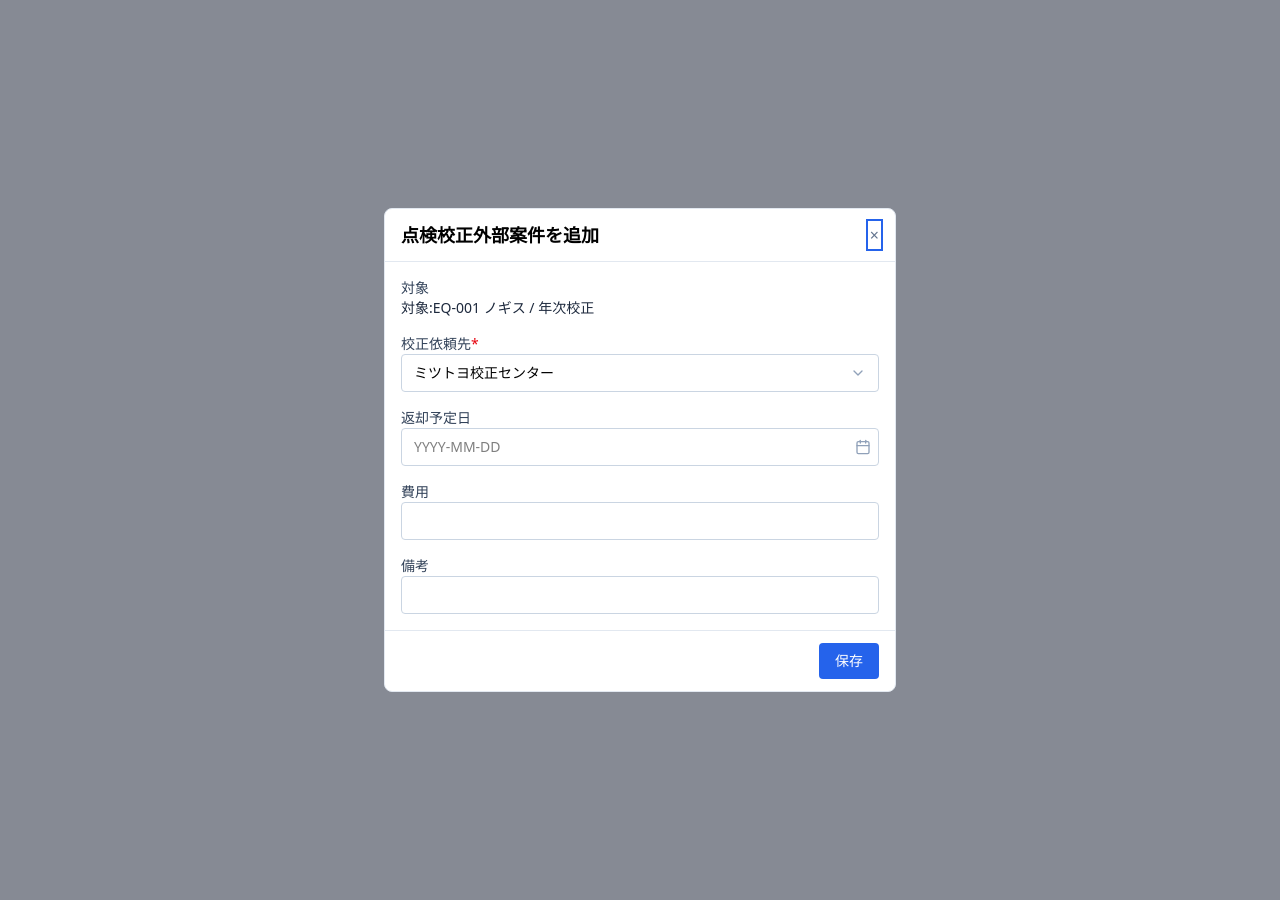
Scenario: ServiceOrderModal › 依頼先の選択肢がisCalibrator=trueのVendorのみ
What coordinates should you click on to do the following:
click the dropdown named "校正依頼先"
I would click on:
 (484, 372)
Its box is [401, 354, 879, 392].
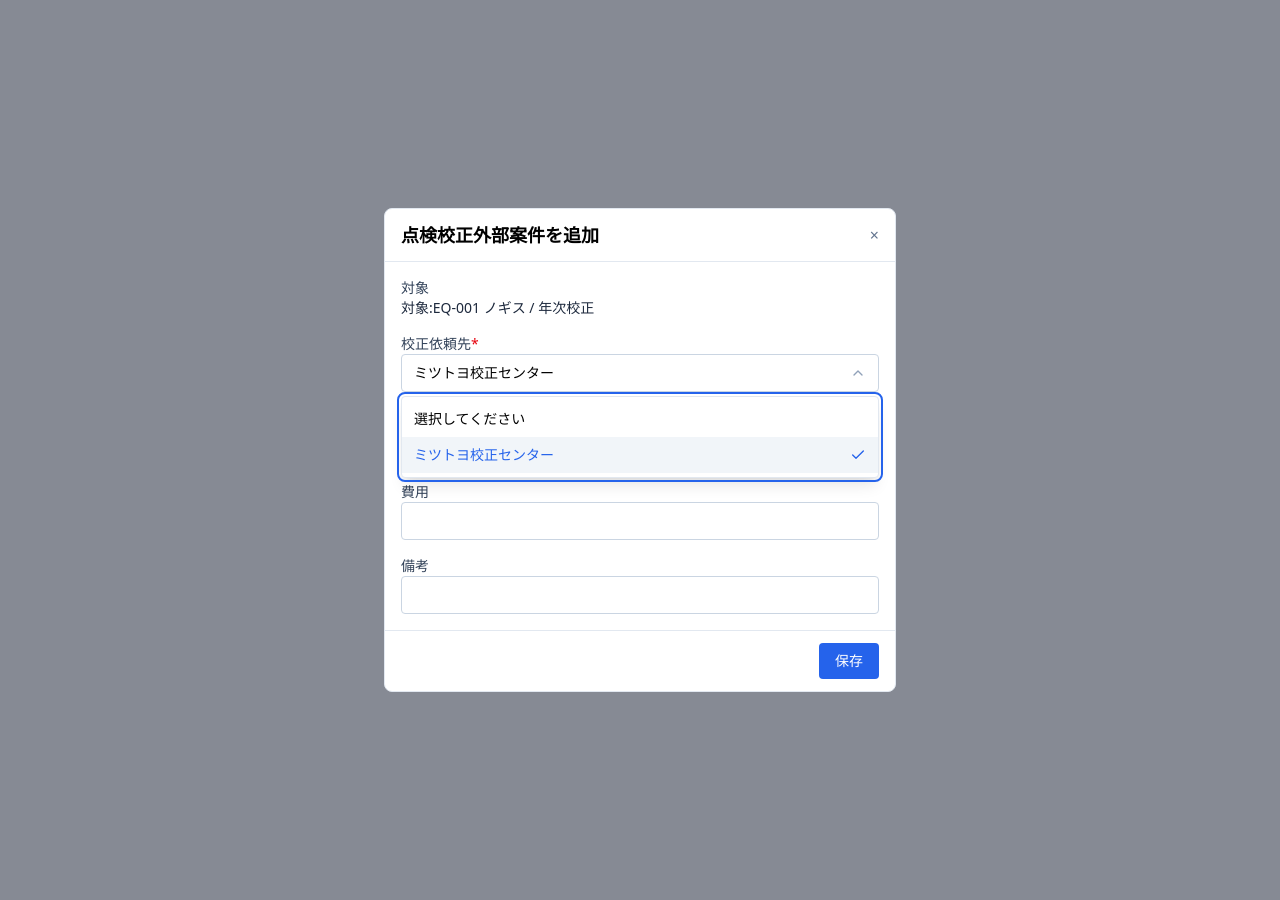
Now the option "ミツトヨ校正センター" is shown, box [402, 437, 878, 473]
